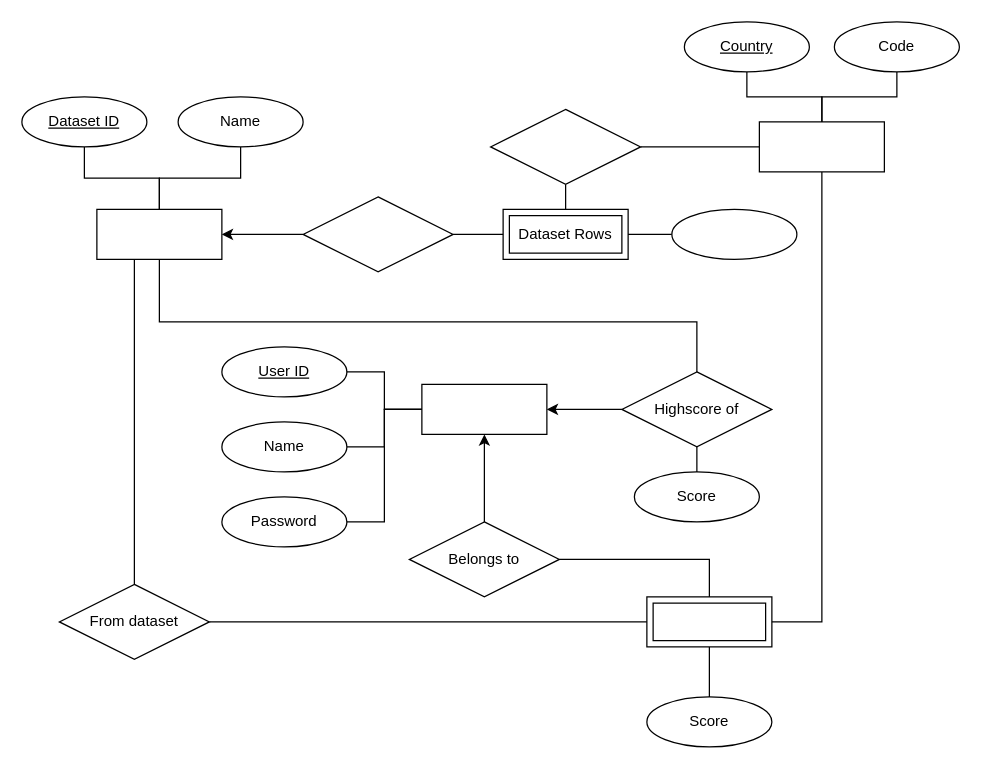
This 981x769 diagram has some shape labels left out. Here are the shapes that lost their labels. From the top down, the box of each, then its label:
(489, 108, 641, 184): Of country
(758, 121, 884, 172): Countries
(96, 208, 222, 259): Datasets
(302, 196, 453, 272): In
(671, 208, 797, 259): Value
(421, 383, 547, 434): Users
(646, 596, 772, 647): Score Progress
